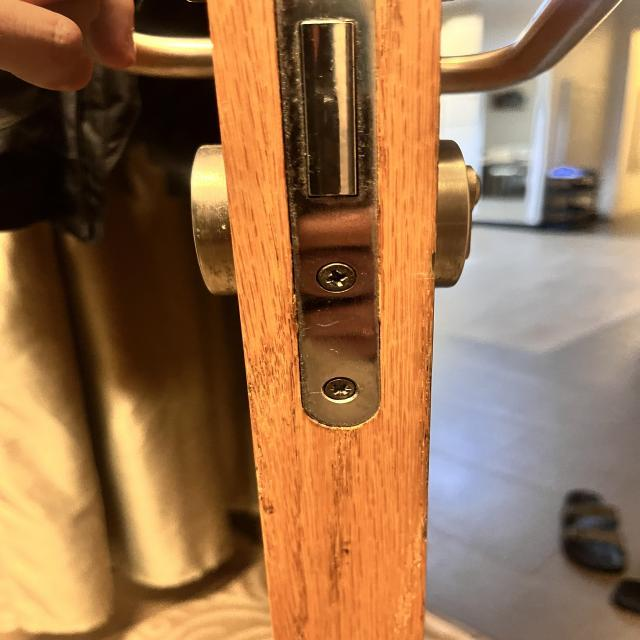phillips: (316, 262, 357, 292)
pozidriv: (323, 378, 357, 400)
